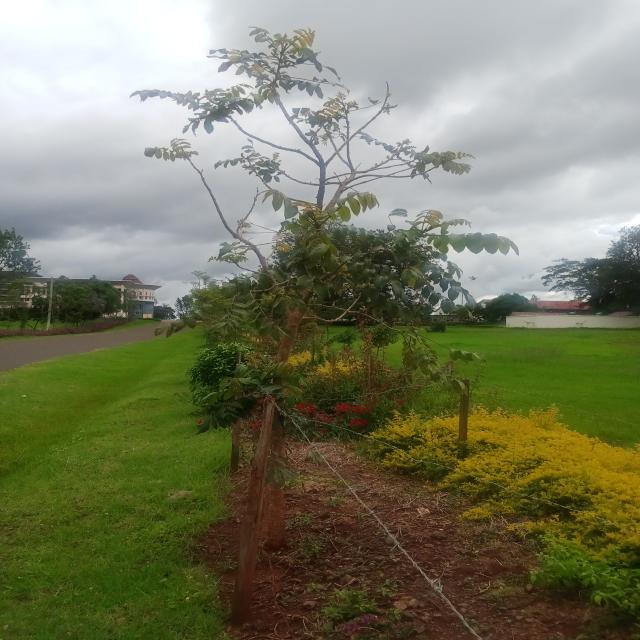Polyscias Kikuyensis: (122, 26, 520, 613)
